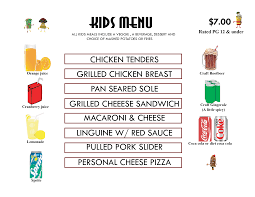coke: (194, 113, 230, 142)
